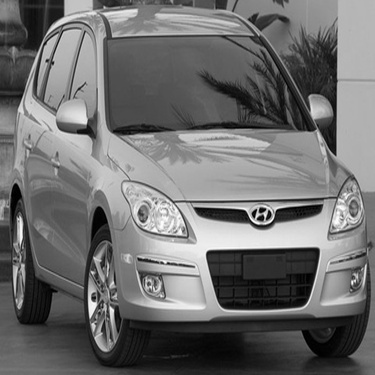car: (18, 6, 373, 356)
